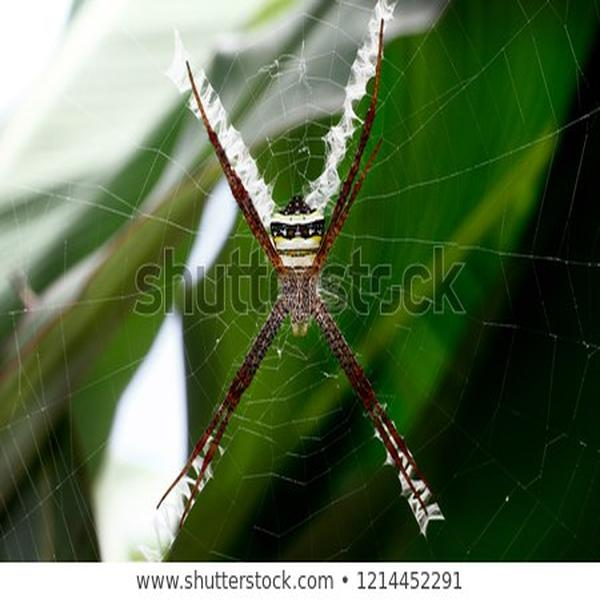St Andrew's Cross Spider: (162, 60, 430, 520)
